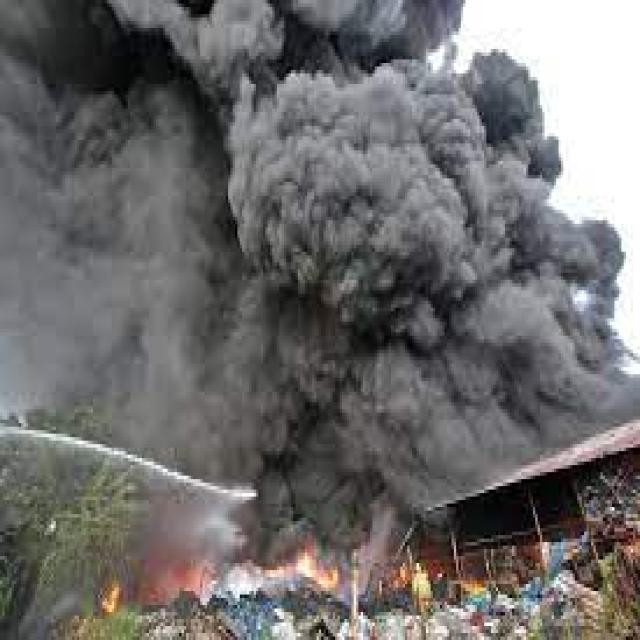Smoke: (0, 3, 640, 433)
